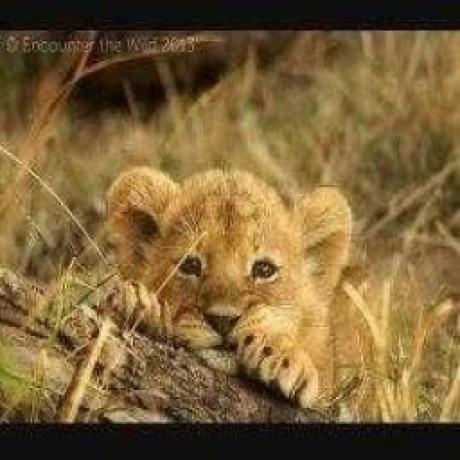Lion: (102, 164, 356, 409)
